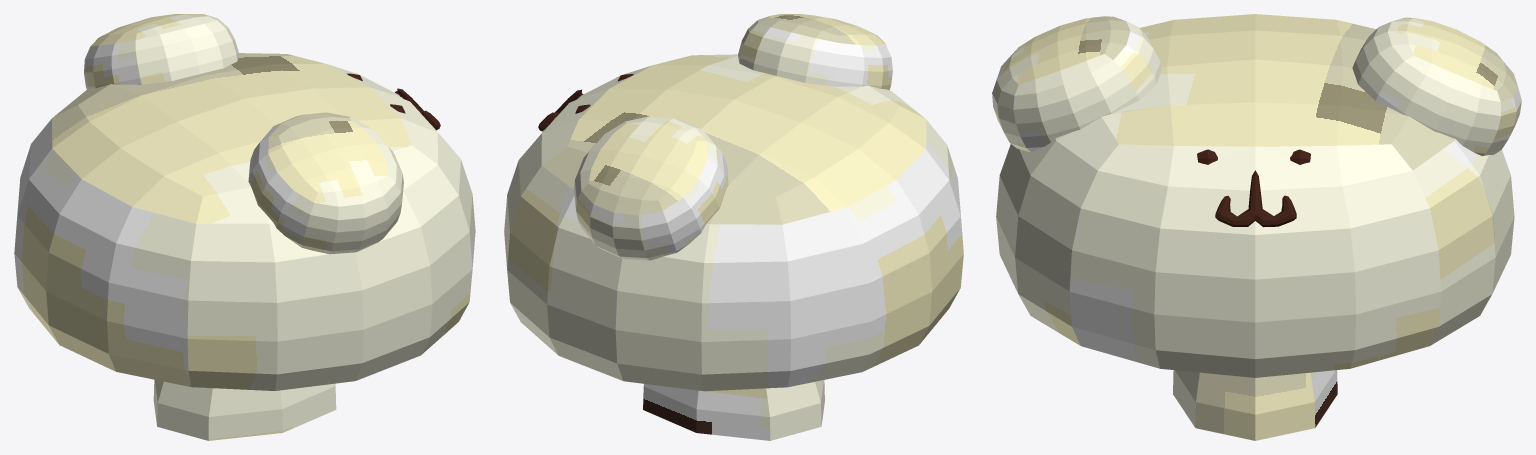
File: White mushroom 3.fbx
3 renders of one model, left to right at view 1: azimuth 30°, elevation 25°; view 2: azimuth 150°, elevation 25°; view 3: azimuth 270°, elevation 25°, orthographic. The views are drawn at different scales.
Visible parts, largest first — view 1: White mushroom 3; view 2: White mushroom 3; view 3: White mushroom 3.
Part boxes in pixels (x1=…): White mushroom 3: x1=14, y1=14, x2=475, y2=440; White mushroom 3: x1=504, y1=14, x2=963, y2=440; White mushroom 3: x1=992, y1=14, x2=1521, y2=440.
Bounding box in the file's own units: 1017 × 829 × 1076.
Materials: 2 (1 with a texture image).
